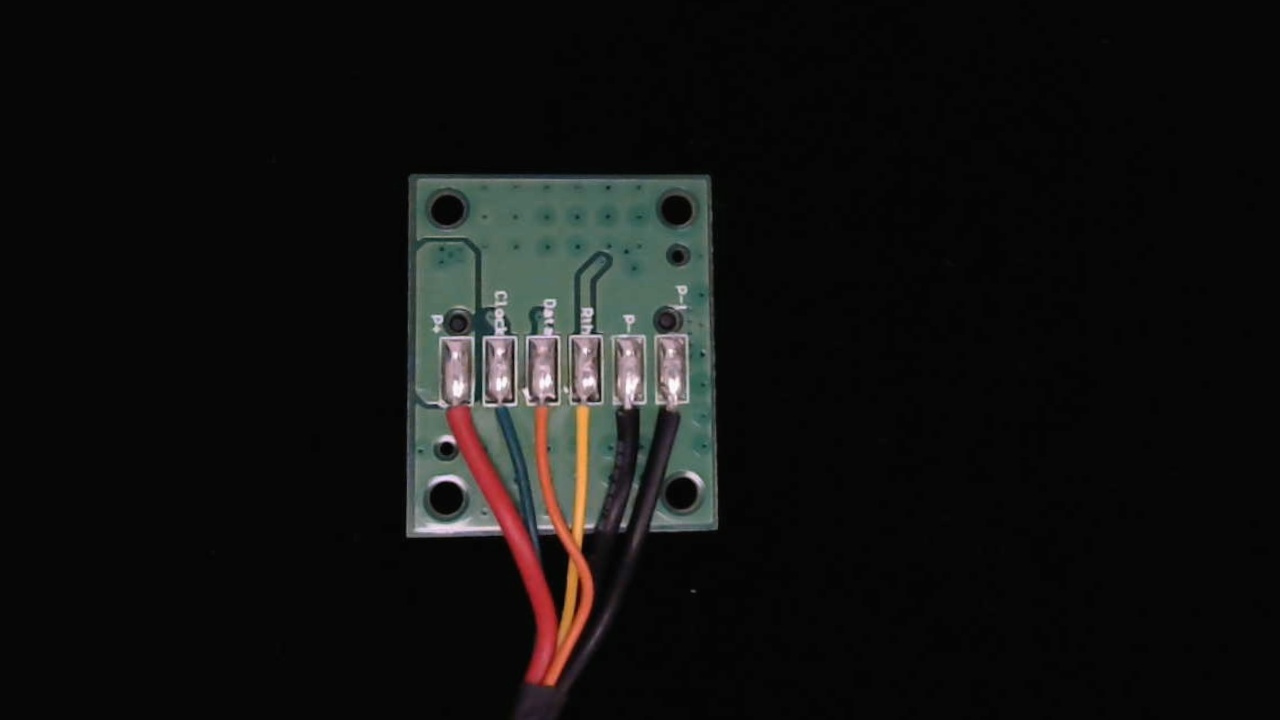Black: (608, 386, 647, 466)
Black1: (655, 387, 693, 461)
Green: (483, 383, 520, 448)
Orange: (525, 385, 562, 465)
Red: (435, 385, 475, 463)
Yellow: (565, 385, 605, 467)
